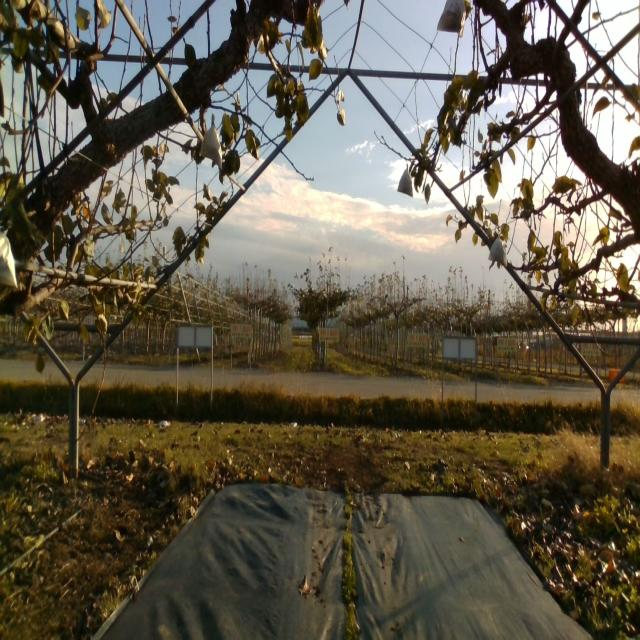pearbags: (199, 112, 226, 170), (438, 0, 468, 38), (488, 234, 508, 266), (396, 163, 413, 197)
